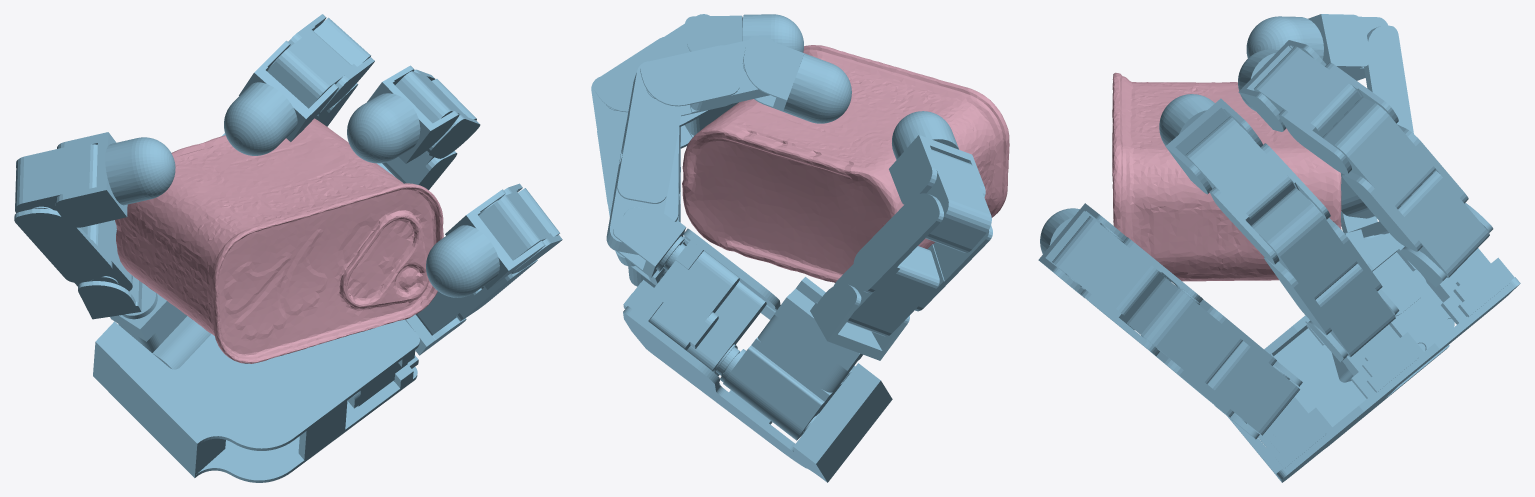
3 views of the same model, side by side, from view 1: azimuth 30°, elevation 25°; view 2: azimuth 150°, elevation 25°; view 3: azimuth 270°, elevation 25° (orthographic). The views are drawn at different scales.
Parts seen in each view (by area): view 1: world; view 2: world; view 3: world.
Boxes of the visible parts, bbox=[...] form: world: bbox=[14, 14, 562, 482]; world: bbox=[591, 14, 1009, 482]; world: bbox=[1038, 14, 1520, 482].
Bounding box in the file's own units: 0.2009 × 0.1803 × 0.1758.
